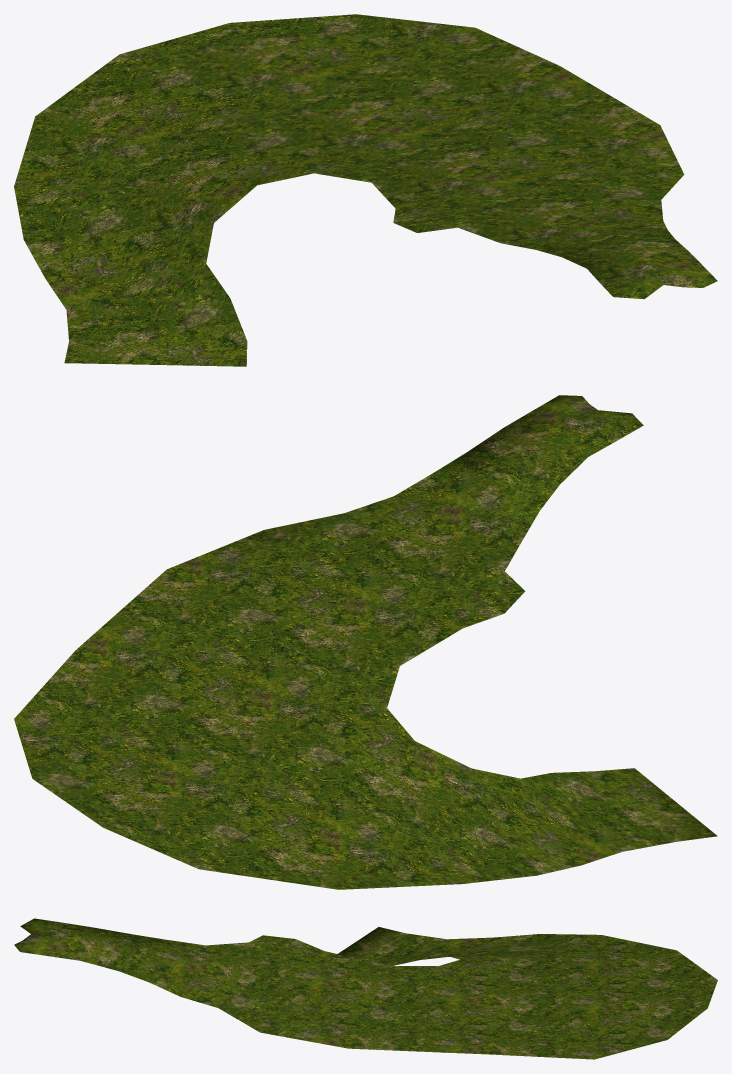
File: OVERHILL_A_01_WALL7.fbx
3 views of the same model, one above another, from view 1: azimuth 30°, elevation 25°; view 2: azimuth 150°, elevation 25°; view 3: azimuth 270°, elevation 25° (orthographic). The views are drawn at different scales.
Visible parts, largest first — view 1: OVERHILL_A_01_WALL7; view 2: OVERHILL_A_01_WALL7; view 3: OVERHILL_A_01_WALL7.
Part boxes in pixels (left/top/right/bottom): OVERHILL_A_01_WALL7: left=14, top=14, right=717, bottom=366; OVERHILL_A_01_WALL7: left=14, top=395, right=717, bottom=889; OVERHILL_A_01_WALL7: left=14, top=918, right=717, bottom=1059.
Size of the model in its own units: 69668 by 19380 by 101681.
Materials: 1 (1 with a texture image).
